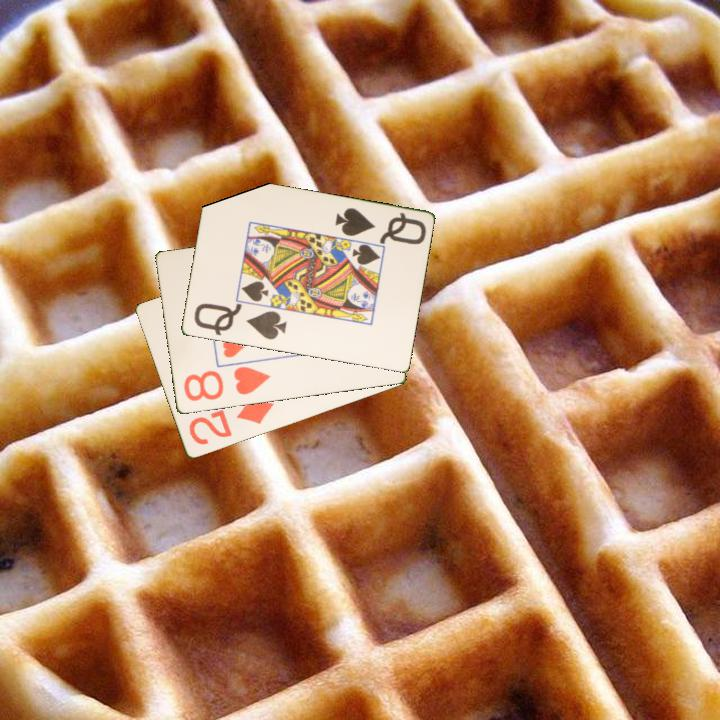2d: (185, 394, 277, 448)
8h: (180, 363, 273, 405)
Qs: (331, 204, 429, 248), (190, 300, 289, 343)
